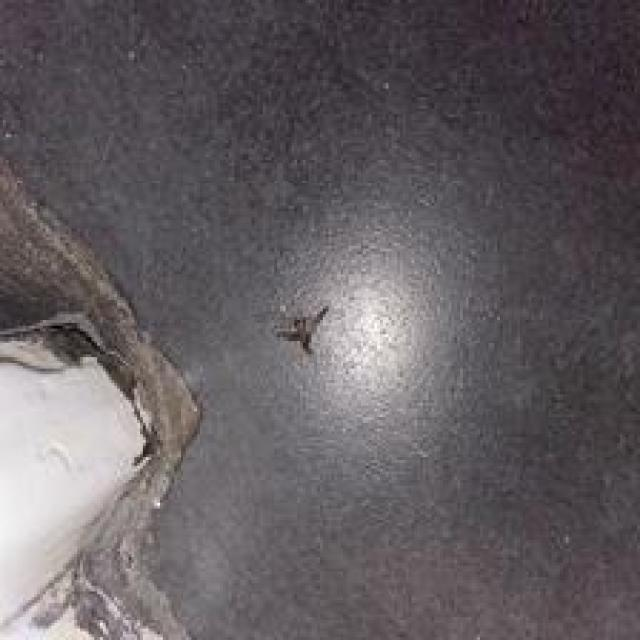Culex: (273, 304, 330, 356)
